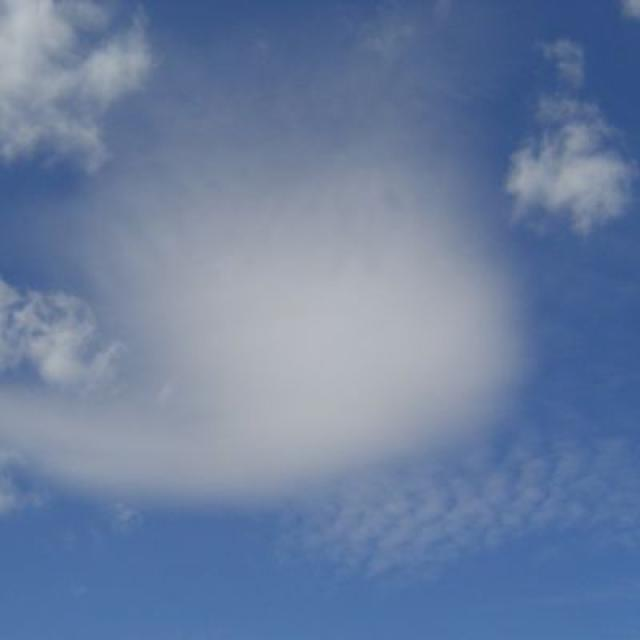Ac: (11, 78, 526, 517)
